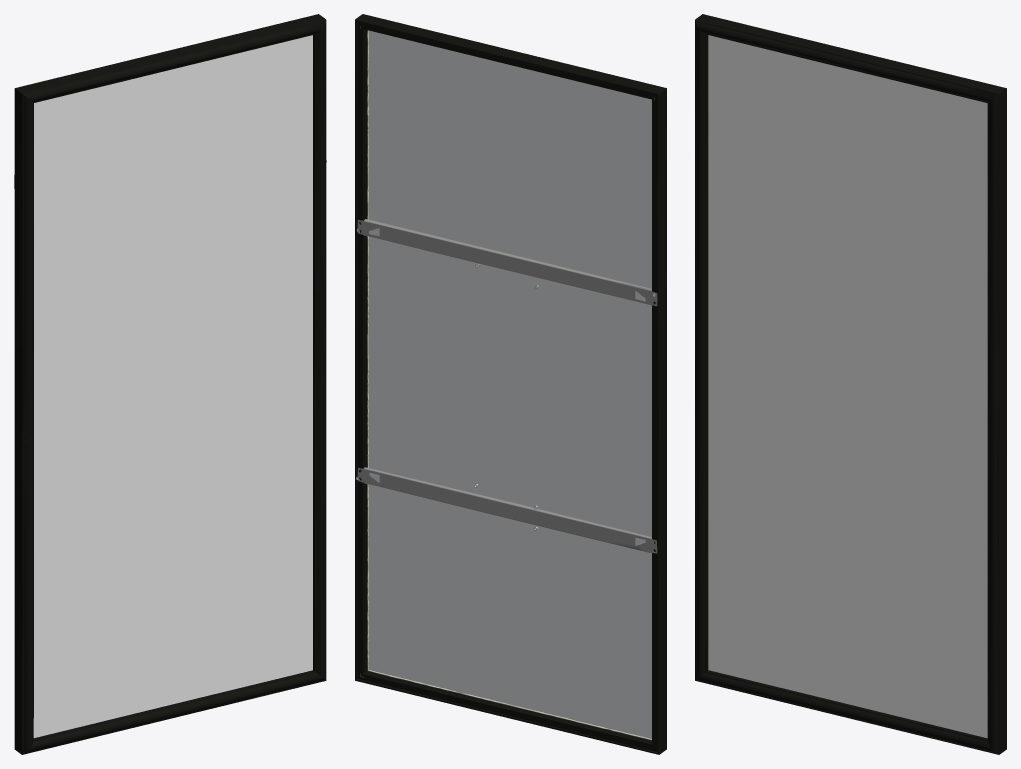
The model's file is nyponbuske_lustro_70609886.glb.
3 renders of one model, left to right at view 1: azimuth 30°, elevation 25°; view 2: azimuth 150°, elevation 25°; view 3: azimuth 330°, elevation 25°, orthographic.
Visible parts, largest first — view 1: nyponbuske_lustro_70609886; view 2: nyponbuske_lustro_70609886; view 3: nyponbuske_lustro_70609886.
Part boxes in pixels (left/top/right/bottom): nyponbuske_lustro_70609886: left=14, top=14, right=326, bottom=754; nyponbuske_lustro_70609886: left=355, top=14, right=666, bottom=754; nyponbuske_lustro_70609886: left=695, top=14, right=1006, bottom=754.
Size of the model in its own units: 0.6501 by 1.35 by 0.0378.
2 materials, 2 textured.
